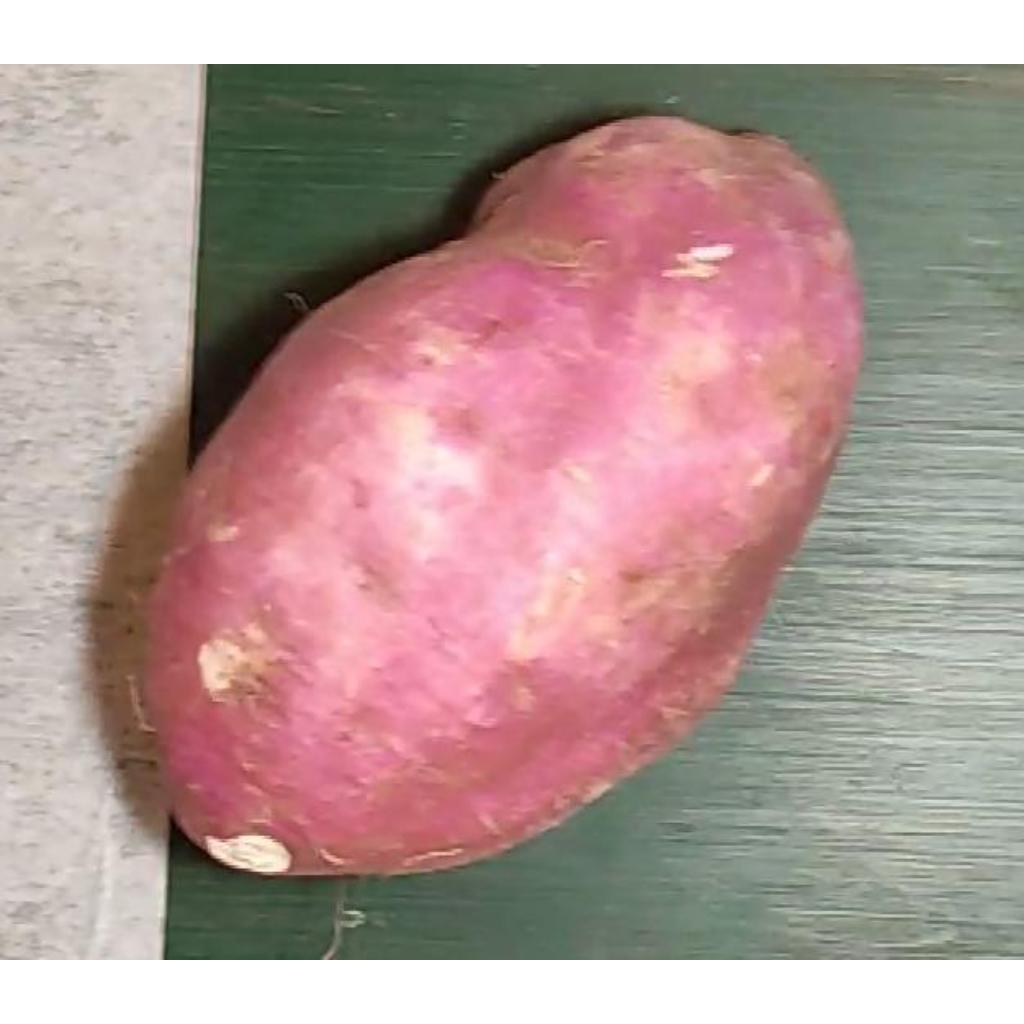Sweet Potato: (142, 115, 869, 882)
